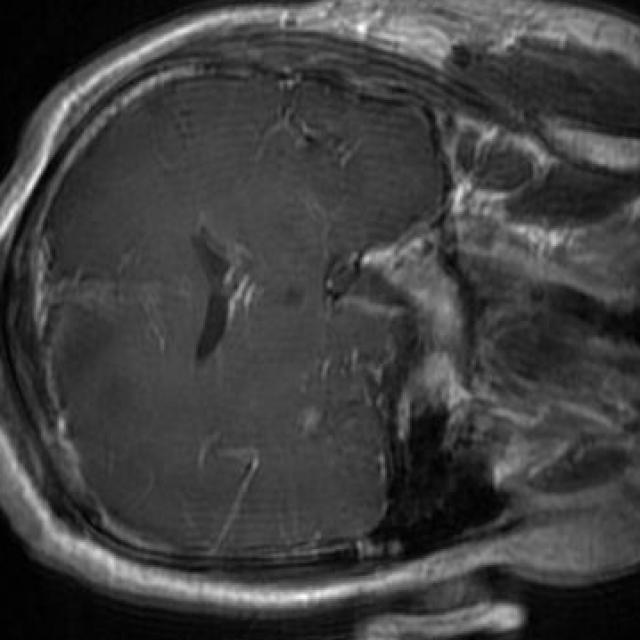glioma: (46, 305, 118, 410)
